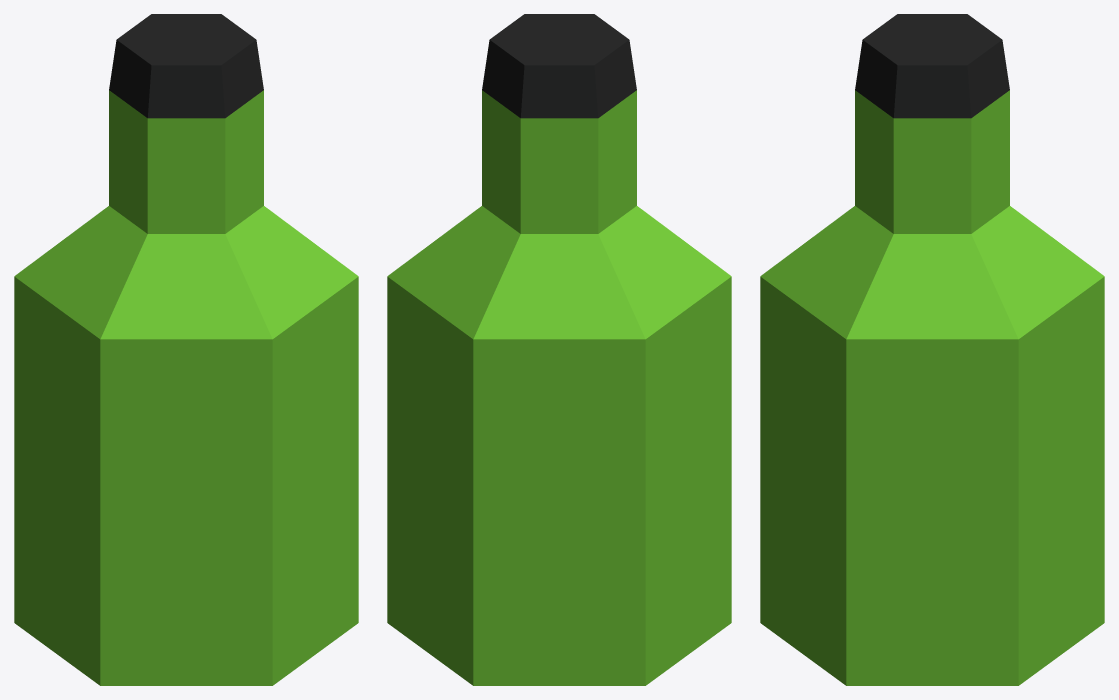
File: Bottle_2.fbx
3 views of the same model, side by side, from view 1: azimuth 30°, elevation 25°; view 2: azimuth 150°, elevation 25°; view 3: azimuth 270°, elevation 25° (orthographic).
Visible parts, largest first — view 1: Bottle_1.001; view 2: Bottle_1.001; view 3: Bottle_1.001.
Boxes of the visible parts, bbox=[...] form: Bottle_1.001: bbox=[14, 14, 358, 685]; Bottle_1.001: bbox=[387, 14, 731, 685]; Bottle_1.001: bbox=[760, 14, 1104, 685].
Bounding box in the file's own units: 18.27 × 39.41 × 21.1.
